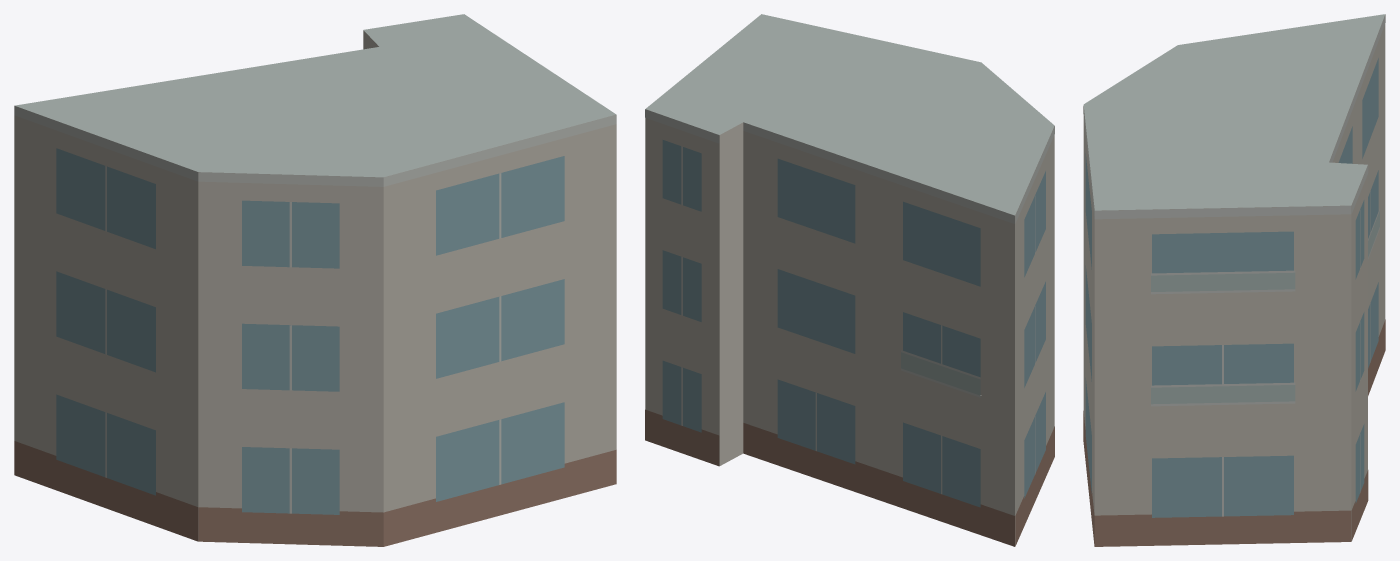
The model's file is survey-upis-32906355.glb.
The picture shows the model from 3 angles, left to right: view 1: azimuth 30°, elevation 25°; view 2: azimuth 150°, elevation 25°; view 3: azimuth 270°, elevation 25°; orthographic projection. The views are drawn at different scales.
Visible parts, largest first — view 1: survey-upis-32906355.tmp; view 2: survey-upis-32906355.tmp; view 3: survey-upis-32906355.tmp.
Boxes of the visible parts, x1,y1,x2,y2 form: survey-upis-32906355.tmp: [14, 14, 616, 546]; survey-upis-32906355.tmp: [645, 14, 1054, 546]; survey-upis-32906355.tmp: [1083, 14, 1385, 546].
Bounding box in the file's own units: 11.79 × 9.4 × 7.66.
